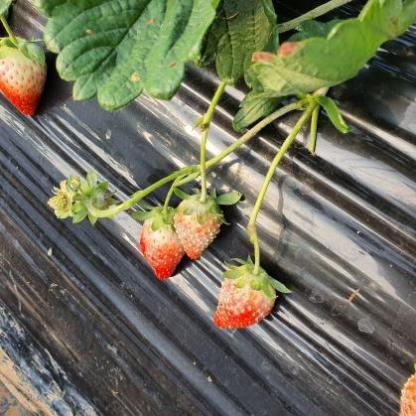Strawberry_Powdery_Mildew_Fruit: (212, 263, 276, 329), (139, 206, 185, 280), (175, 194, 224, 260)
